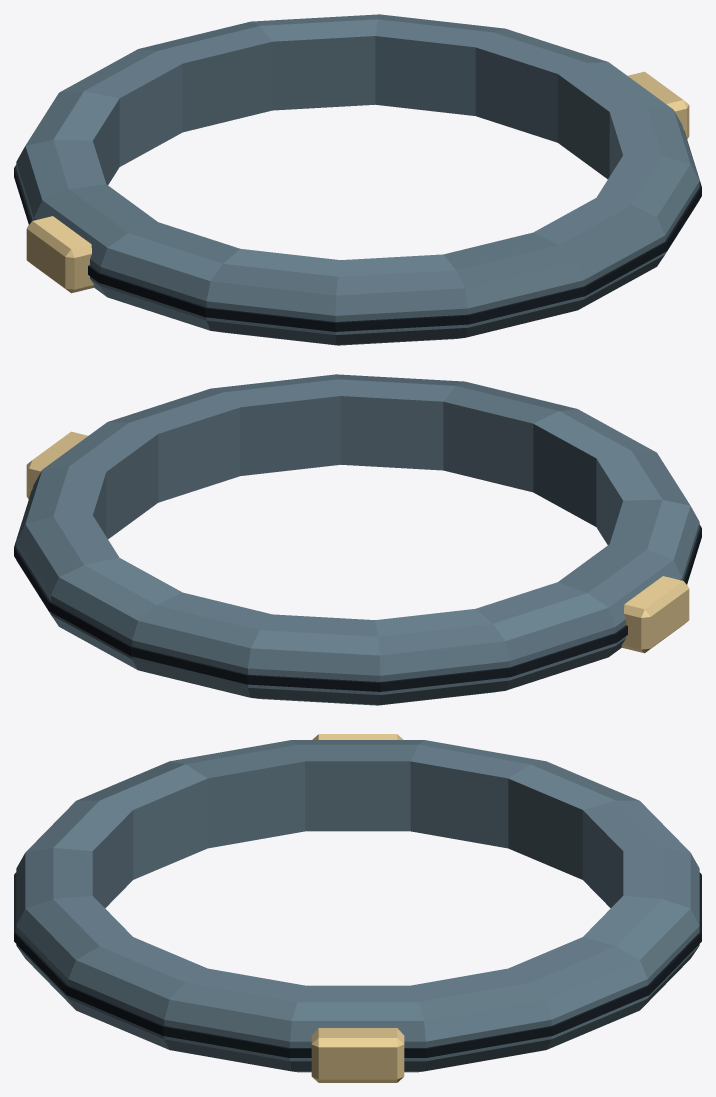
File: QR_JoinCollar.fbx
3 views of the same model, one above another, from view 1: azimuth 30°, elevation 25°; view 2: azimuth 150°, elevation 25°; view 3: azimuth 270°, elevation 25° (orthographic).
Visible parts, largest first — view 1: QR_JoinCollar; view 2: QR_JoinCollar; view 3: QR_JoinCollar.
Part boxes in pixels (x1=…): QR_JoinCollar: x1=14, y1=14, x2=701, y2=345; QR_JoinCollar: x1=14, y1=374, x2=701, y2=705; QR_JoinCollar: x1=14, y1=734, x2=701, y2=1082.
Size of the model in its own units: 0.949 by 0.1 by 0.8906.
